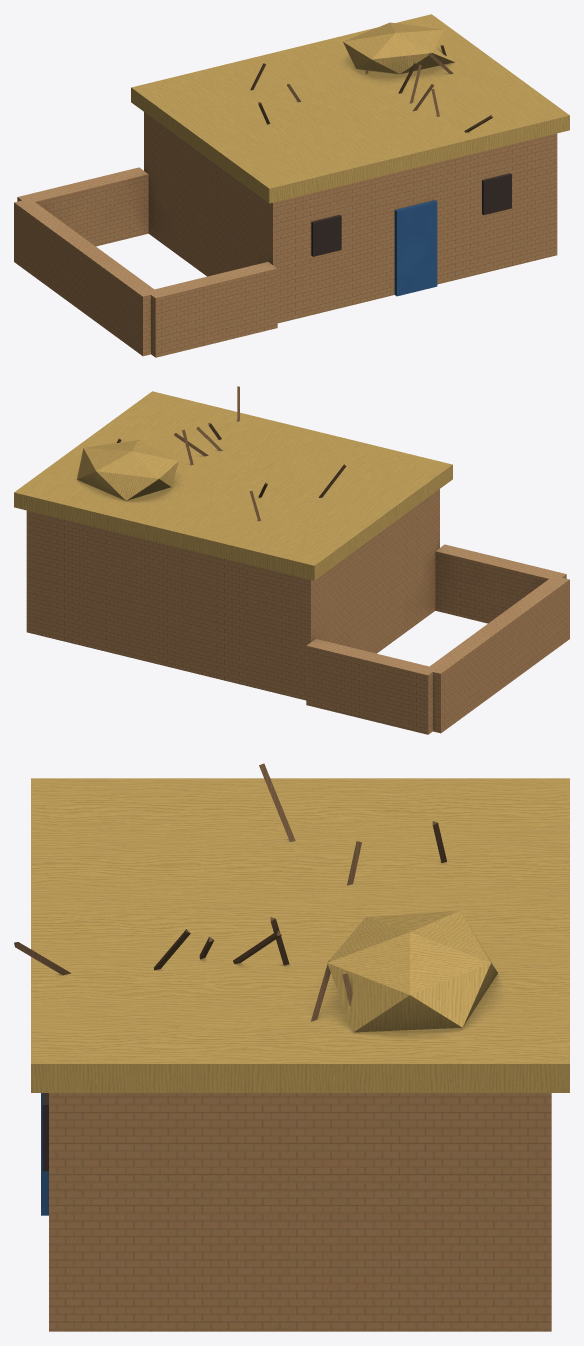
The model's file is lerhus_tex.glb.
3 renders of one model, top to bottom at view 1: azimuth 30°, elevation 25°; view 2: azimuth 150°, elevation 25°; view 3: azimuth 270°, elevation 25°, orthographic. The views are drawn at different scales.
Visible parts, largest first — view 1: lerhus; view 2: lerhus; view 3: lerhus.
Part boxes in pixels (bbox=[...]): lerhus: bbox=[14, 14, 569, 357]; lerhus: bbox=[14, 386, 569, 734]; lerhus: bbox=[14, 763, 569, 1331].
Bounding box in the file's own units: 10.4 × 4.06 × 6.08.
5 materials, 4 textured.
